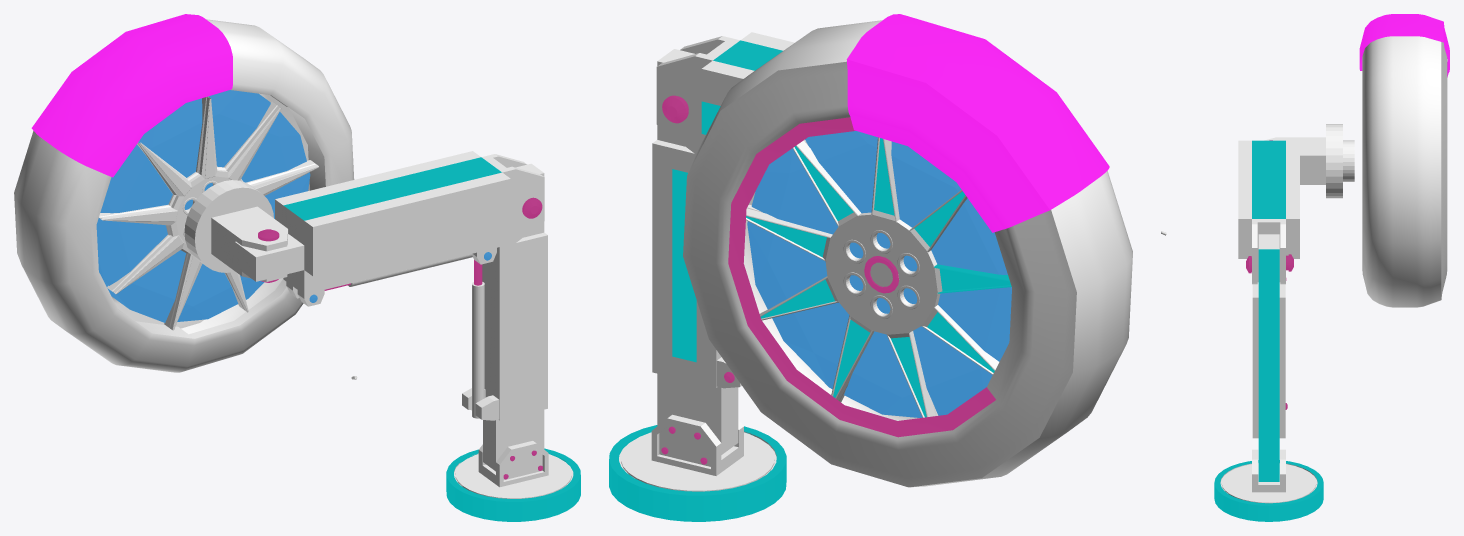
3 renders of one model, left to right at view 1: azimuth 30°, elevation 25°; view 2: azimuth 150°, elevation 25°; view 3: azimuth 270°, elevation 25°, orthographic. The views are drawn at different scales.
Parts seen in each view (by area): view 1: ban_2.035, Plane.055, ban_2.036, ban_2.037, Cube.009, Cylinder.037, Plane.054, Circle.129, Circle.130, Plane.059, Cylinder.033, Circle.131 (+1 smaller); view 2: ban_2.035, ban_2.036, ban_2.037, Cylinder.036, Cube.009, Plane.054, Plane.055, Circle.129, Circle.131; view 3: ban_2.035, Cube.009, Plane.055, Plane.054, Circle.129, ban_2.037, Circle.130, Plane.059.
Boxes of the visible parts, left/top/right/bottom form: ban_2.035: left=14, top=19, right=354, bottom=372; Plane.055: left=235, top=151, right=544, bottom=294; ban_2.036: left=96, top=90, right=310, bottom=322; ban_2.037: left=31, top=14, right=232, bottom=177; Cube.009: left=482, top=163, right=547, bottom=471; Cylinder.037: left=99, top=96, right=318, bottom=330; Plane.054: left=454, top=441, right=573, bottom=498; Circle.129: left=446, top=448, right=580, bottom=521; Circle.130: left=184, top=180, right=273, bottom=272; Plane.059: left=211, top=206, right=288, bottom=281; Cylinder.033: left=472, top=282, right=484, bottom=418; Circle.131: left=258, top=197, right=542, bottom=479; ban_2.035: left=683, top=20, right=1132, bottom=487; ban_2.036: left=747, top=131, right=1011, bottom=417; ban_2.037: left=846, top=14, right=1109, bottom=232; Cylinder.036: left=746, top=137, right=1011, bottom=417; Cube.009: left=652, top=49, right=738, bottom=454; Plane.054: left=619, top=414, right=776, bottom=491; Plane.055: left=656, top=32, right=794, bottom=153; Circle.129: left=609, top=425, right=786, bottom=521; Circle.131: left=661, top=95, right=734, bottom=464; ban_2.035: left=1362, top=36, right=1447, bottom=307; Cube.009: left=1252, top=234, right=1285, bottom=481; Plane.055: left=1238, top=140, right=1299, bottom=284; Plane.054: left=1220, top=449, right=1317, bottom=503; Circle.129: left=1214, top=460, right=1323, bottom=521; ban_2.037: left=1359, top=14, right=1449, bottom=77; Circle.130: left=1326, top=124, right=1354, bottom=198; Plane.059: left=1264, top=137, right=1325, bottom=184.
Size of the model in its own units: 22.62 by 21.78 by 15.17.
